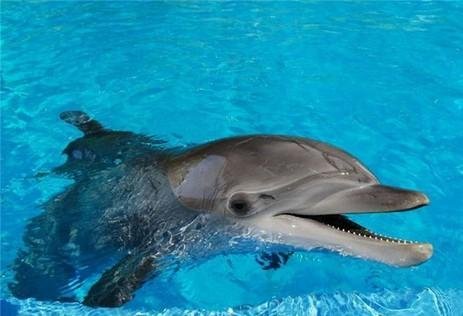fish: (13, 103, 439, 305)
